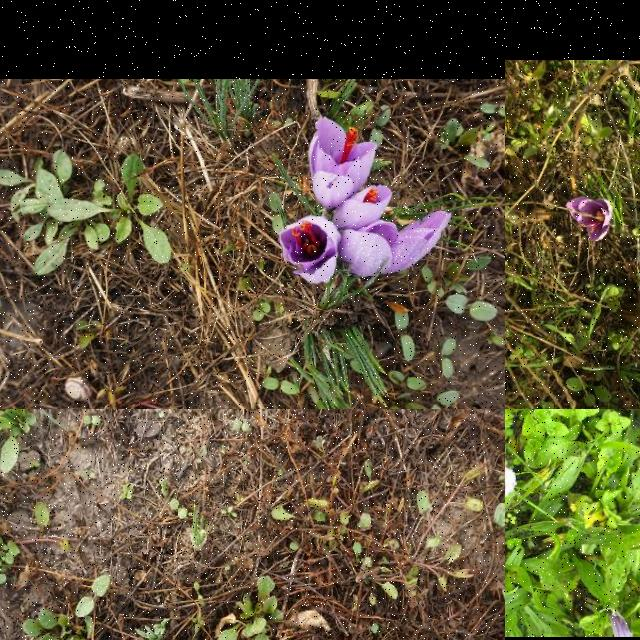flower: (339, 211, 453, 285), (309, 117, 377, 209), (279, 216, 343, 284), (332, 184, 393, 230), (566, 196, 610, 244), (505, 464, 516, 501)
